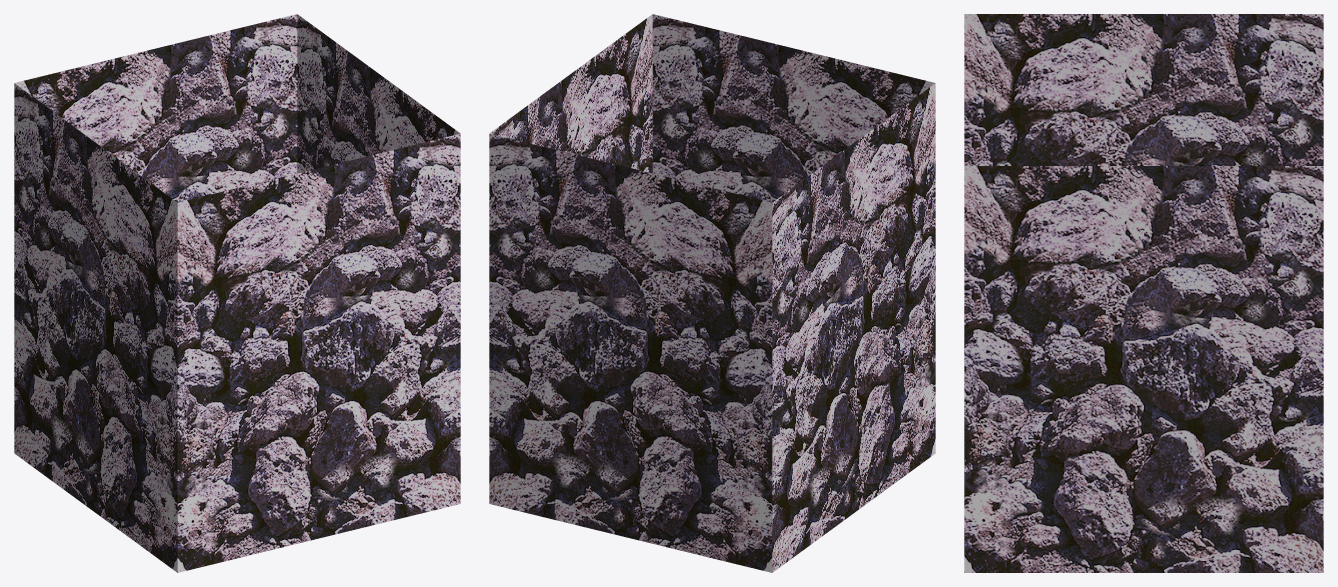
File: OceanTest_All_Applied.glb
The picture shows the model from 3 angles, left to right: view 1: azimuth 30°, elevation 25°; view 2: azimuth 150°, elevation 25°; view 3: azimuth 270°, elevation 25°; orthographic projection. The views are drawn at different scales.
Parts seen in each view (by area): view 1: Aquarium; view 2: Aquarium; view 3: Aquarium.
Part boxes in pixels (<box>): Aquarium: <box>14,14,460,572</box>; Aquarium: <box>489,14,935,572</box>; Aquarium: <box>964,14,1323,572</box>.
Bounding box in the file's own units: 400 × 502 × 400.
Materials: 4 (3 with a texture image).
